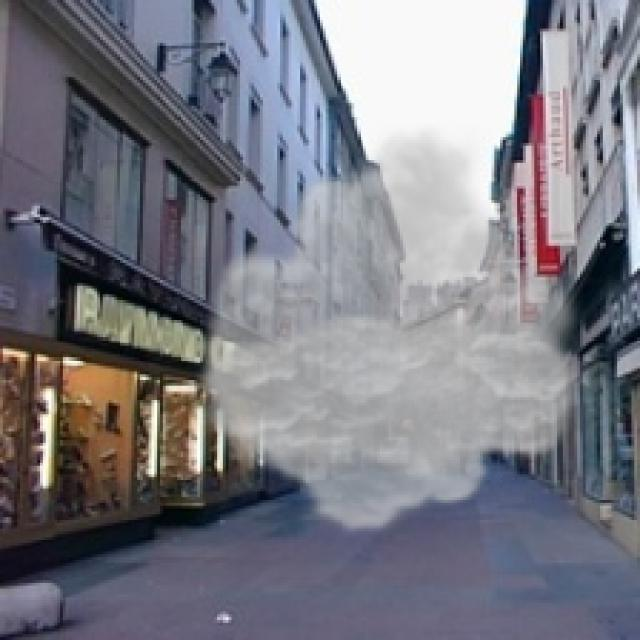Smoke: (188, 122, 592, 538)
